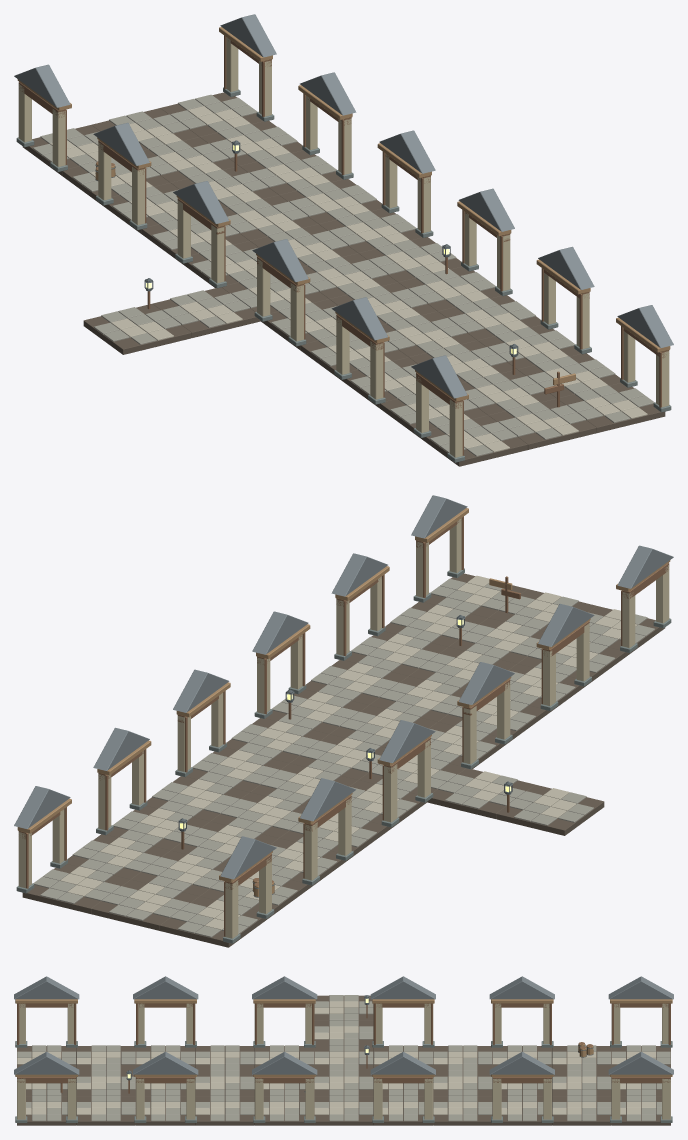
Rendered from tv_36_10_city_street.glb.
3 renders of one model, top to bottom at view 1: azimuth 30°, elevation 25°; view 2: azimuth 150°, elevation 25°; view 3: azimuth 270°, elevation 25°, orthographic. The views are drawn at different scales.
Visible parts, largest first — view 1: floor_paving_0000, street_facade_0042, street_facade_0039, street_facade_0038, street_facade_0036, street_facade_0044, street_facade_0045, street_facade_0040, street_facade_0037, street_facade_0043, street_facade_0041, street_facade_0046 (+35 smaller); view 2: floor_paving_0000, street_facade_0041, street_facade_0040, street_facade_0044, street_facade_0046, street_facade_0038, street_facade_0035, street_facade_0042, street_facade_0037, street_facade_0043, street_facade_0039, street_facade_0036 (+35 smaller); view 3: street_facade_0040, street_facade_0042, street_facade_0039, street_facade_0041, street_facade_0038, street_facade_0044, street_facade_0036, street_facade_0046, street_facade_0035, street_facade_0045, street_facade_0037, street_facade_0043 (+35 smaller).
Part boxes in pixels (x1=…): floor_paving_0000: x1=83, y1=304, x2=191, y2=354; street_facade_0042: x1=377, y1=130, x2=435, y2=237; street_facade_0039: x1=252, y1=239, x2=310, y2=346; street_facade_0038: x1=536, y1=246, x2=594, y2=354; street_facade_0036: x1=616, y1=305, x2=673, y2=412; street_facade_0044: x1=298, y1=72, x2=356, y2=179; street_facade_0045: x1=14, y1=64, x2=71, y2=171; street_facade_0040: x1=457, y1=188, x2=514, y2=295; street_facade_0037: x1=331, y1=297, x2=389, y2=404; street_facade_0043: x1=93, y1=122, x2=151, y2=230; street_facade_0041: x1=173, y1=181, x2=230, y2=288; street_facade_0046: x1=219, y1=14, x2=276, y2=121; floor_paving_0000: x1=496, y1=785, x2=604, y2=835; street_facade_0041: x1=377, y1=720, x2=435, y2=827; street_facade_0040: x1=252, y1=611, x2=310, y2=718; street_facade_0044: x1=93, y1=727, x2=151, y2=835; street_facade_0046: x1=14, y1=786, x2=71, y2=893; street_facade_0038: x1=331, y1=553, x2=389, y2=660; street_facade_0035: x1=616, y1=545, x2=673, y2=652; street_facade_0042: x1=173, y1=669, x2=230, y2=776; street_facade_0037: x1=536, y1=603, x2=594, y2=711; street_facade_0043: x1=298, y1=778, x2=356, y2=885; street_facade_0039: x1=457, y1=662, x2=514, y2=769; street_facade_0036: x1=411, y1=495, x2=468, y2=602; street_facade_0040: x1=252, y1=1051, x2=317, y2=1122; street_facade_0042: x1=370, y1=1051, x2=435, y2=1122; street_facade_0039: x1=252, y1=976, x2=317, y2=1047; street_facade_0041: x1=370, y1=976, x2=435, y2=1047; street_facade_0038: x1=133, y1=1051, x2=198, y2=1122; street_facade_0044: x1=489, y1=1051, x2=554, y2=1122; street_facade_0036: x1=14, y1=1051, x2=79, y2=1122; street_facade_0046: x1=608, y1=1051, x2=673, y2=1122; street_facade_0035: x1=14, y1=976, x2=79, y2=1047; street_facade_0045: x1=608, y1=976, x2=673, y2=1047; street_facade_0037: x1=133, y1=976, x2=198, y2=1047; street_facade_0043: x1=489, y1=976, x2=554, y2=1047.
Bounding box in the file's own units: 20.4 × 5.31 × 44.4.
